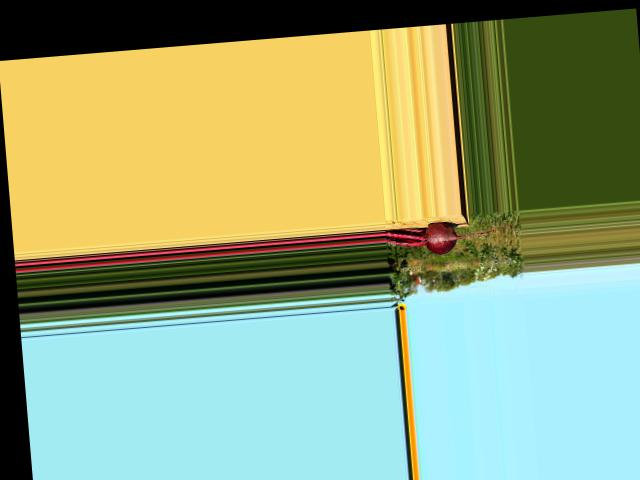beet: (383, 215, 517, 258)
